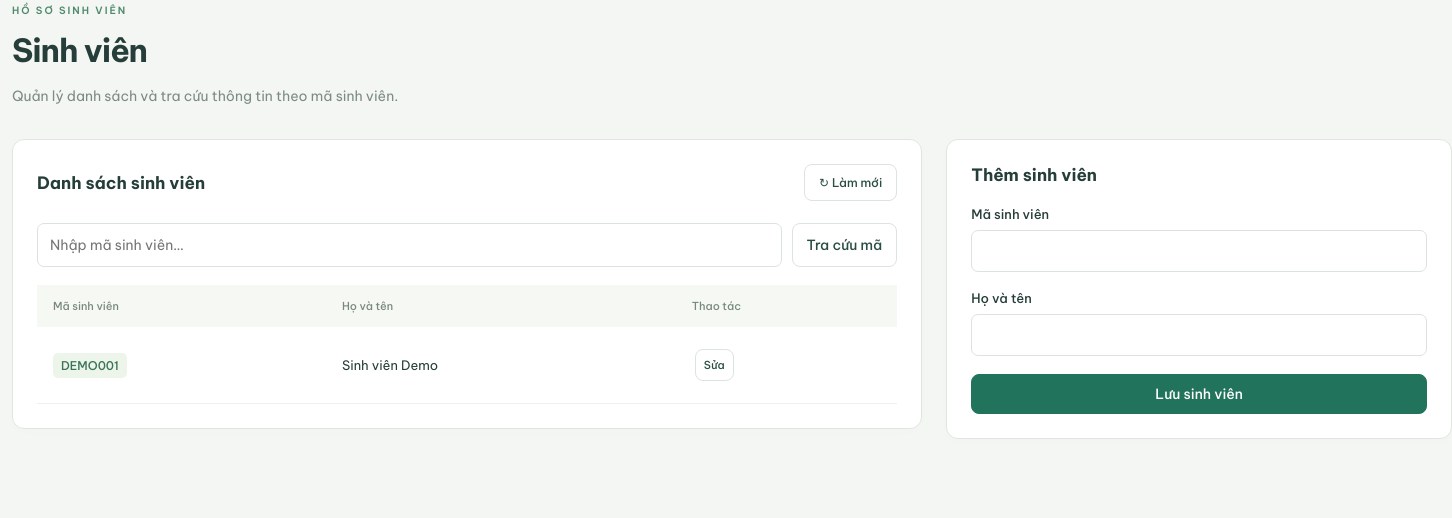
it: blocks duplicate student codes before sending a create request
Expected: the text "Sinh viên Demo" is shown, x1=326 y1=327 x2=676 y2=404
Step 1. Type "demo001" into the field labelled "Mã sinh viên" → [1199, 251], box x1=971 y1=230 x2=1427 y2=272
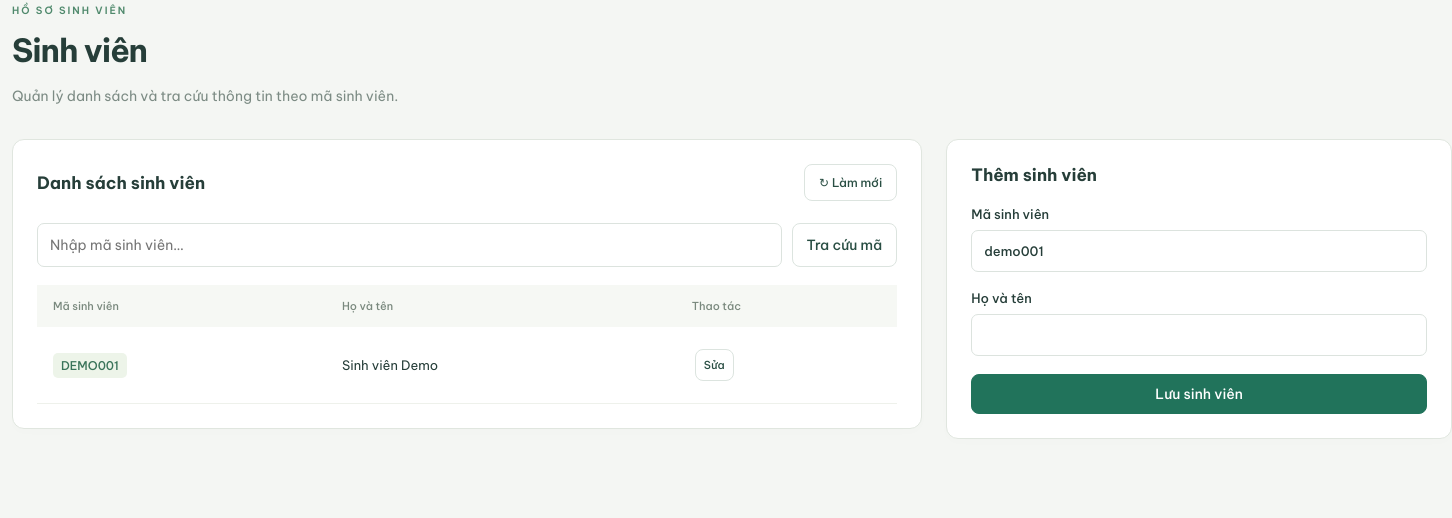
Step 2. Type "Tên khác" into the field labelled "Họ và tên" → [1199, 335], box x1=971 y1=314 x2=1427 y2=356
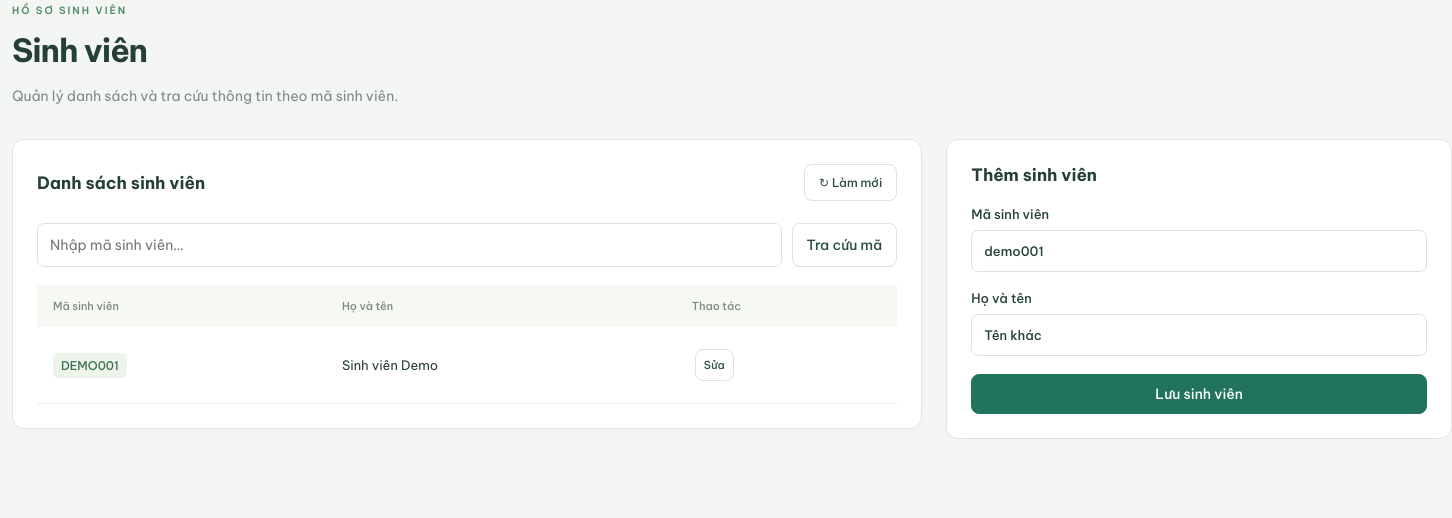
Step 3. Click the button "Lưu sinh viên" → [1199, 394], box x1=971 y1=374 x2=1427 y2=414
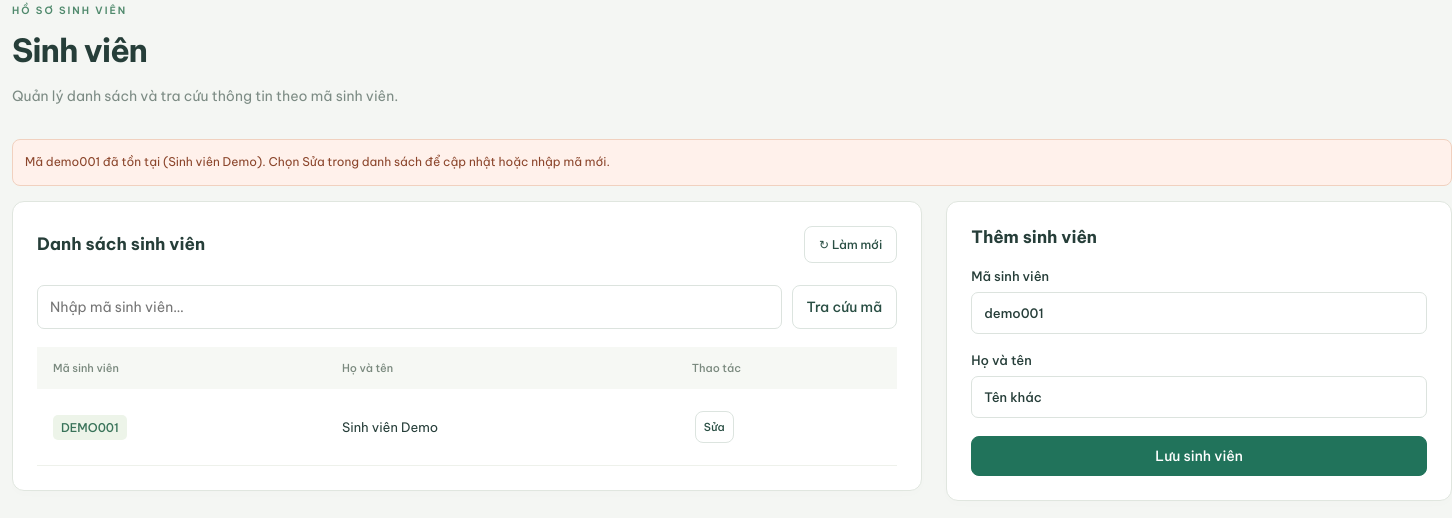
Result: the message shows "đã tồn tại" at x1=25 y1=154 x2=610 y2=169
